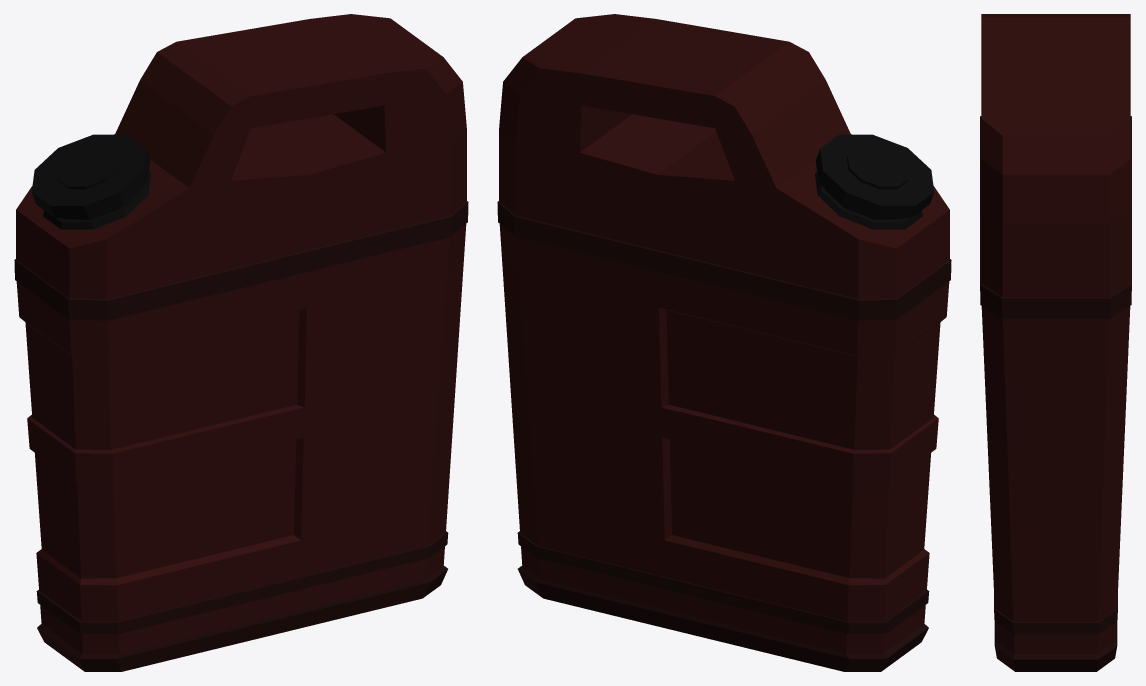
File: micro_gascan.obj
3 renders of one model, left to right at view 1: azimuth 30°, elevation 25°; view 2: azimuth 150°, elevation 25°; view 3: azimuth 270°, elevation 25°, orthographic.
Parts seen in each view (by area): view 1: GasCan_Cube.002; view 2: GasCan_Cube.002; view 3: GasCan_Cube.002.
Part boxes in pixels (left/top/right/bottom): GasCan_Cube.002: left=14, top=14, right=468, bottom=671; GasCan_Cube.002: left=497, top=14, right=951, bottom=671; GasCan_Cube.002: left=980, top=14, right=1131, bottom=671.
Size of the model in its own units: 1.88 by 2.47 by 0.6153.
